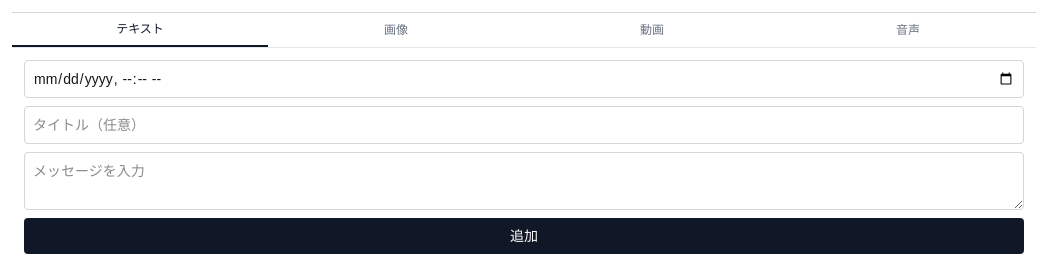
Test: ChatComposer › shows video-specific fields on video tab
This screenshot has width=1048, height=271.
Click the button "動画" at [652, 30], box [524,13,780,47]
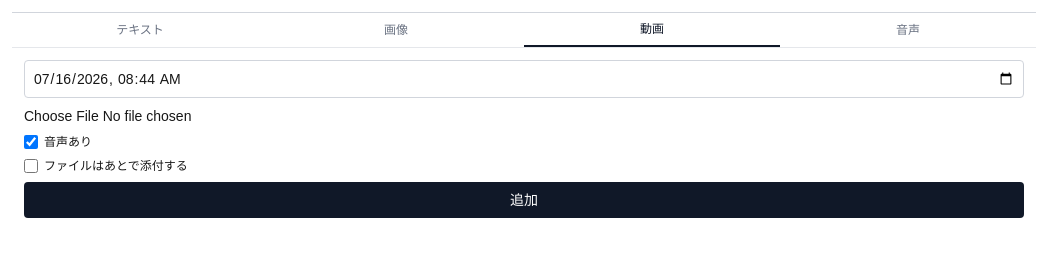
Now the text "音声あり" is shown, box [24,135,92,149]
Now the field with placeholder "タイトル（任意）" is gone
